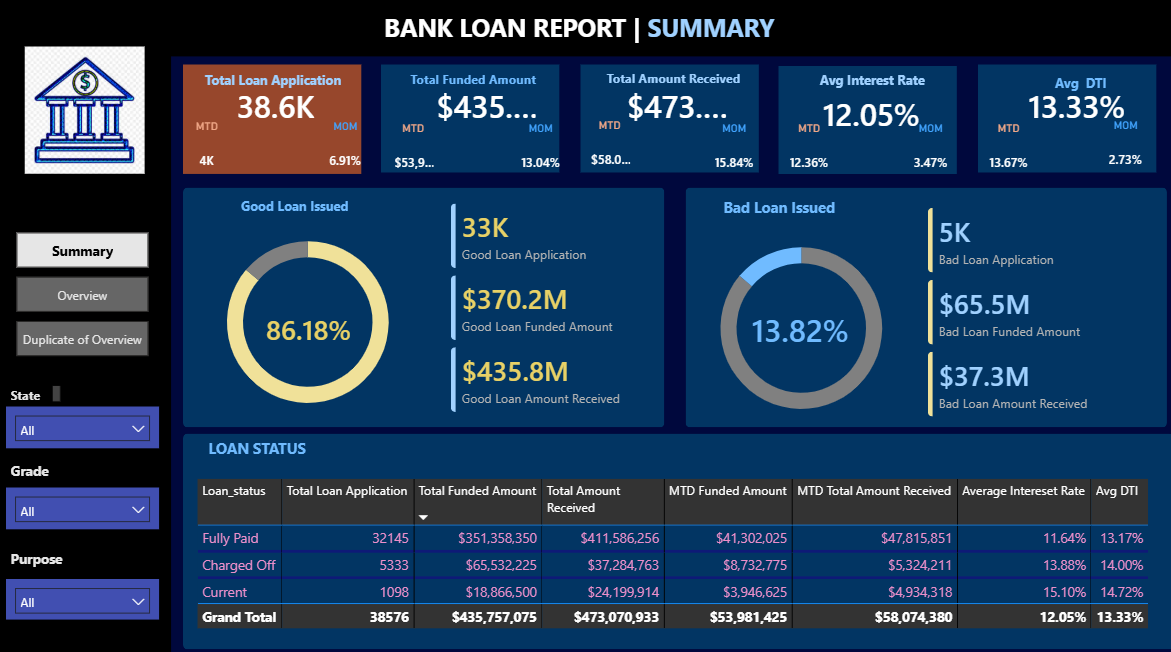

The page's visual inventory and layout, read from the dashboard file:
{"tool":"powerbi","page":{"name":"Summary","canvas":[1280,720],"ordinal":0},"visuals":[{"type":"shape","box":[204.9,73.2,193.6,118.7],"z":0},{"type":"shape","box":[0,0,1279.4,54.8],"z":1000},{"type":"shape","box":[0.6,10,1279.4,54.8],"z":2000},{"type":"cardVisual","fields":{"Data":["Financial_Loan_Project.Total Loan Application"]},"box":[215.4,79.4,181.4,75.6],"z":3000},{"type":"shape","box":[0,54.8,192,665.2],"z":4000},{"type":"textbox","box":[417.6,9.4,447.9,54.8],"z":5000},{"type":"textbox","box":[207.9,75.6,189,41.6],"z":6000},{"type":"cardVisual","title":"MTD","fields":{"Data":["Financial_Loan_Project.MTD Loan Application"]},"box":[193.6,133.4,74.8,71.6],"z":7000},{"type":"cardVisual","title":"MOM","fields":{"Data":["Financial_Loan_Project.MOM Loan Application"]},"box":[319.4,134.2,124.7,71.8],"z":8000},{"type":"shape","box":[420.5,73.2,193.6,117.1],"z":9000},{"type":"textbox","box":[422.9,74.8,193.6,35.8],"z":10000},{"type":"cardVisual","fields":{"Data":["Financial_Loan_Project.Total Funded Amount"]},"box":[444,79.7,172.4,74.8],"z":11000},{"type":"cardVisual","title":"MTD","fields":{"Data":["Financial_Loan_Project.MTD Funded Amount"]},"box":[403.4,135,102.5,71.6],"z":12000},{"type":"cardVisual","title":"MOM","fields":{"Data":["Financial_Loan_Project.MOM Total Funded Amount"]},"box":[530.3,135,125.2,71.6],"z":13000},{"type":"shape","box":[636,73.2,193.6,117.1],"z":14000},{"type":"textbox","box":[640.9,73.2,191.9,30.9],"z":15000},{"type":"cardVisual","fields":{"Data":["Financial_Loan_Project.Total Amount Received"]},"box":[650.6,79.7,172.4,74.8],"z":16000},{"type":"cardVisual","title":"MTD","fields":{"Data":["Financial_Loan_Project.MTD Total Amount Received"]},"box":[616.5,131.8,102.5,71.6],"z":17000},{"type":"cardVisual","title":"MOM","fields":{"Data":["Financial_Loan_Project.MOM Total Amount Received"]},"box":[740.1,135,125.2,71.6],"z":18000},{"type":"shape","box":[851.5,74.8,193.6,117.1],"z":19000},{"type":"textbox","box":[855.6,74.8,193.6,35.8],"z":20000},{"type":"cardVisual","fields":{"Data":["Financial_Loan_Project.Average Intereset Rate"]},"box":[865.3,87.8,172.4,74.8],"z":21000},{"type":"cardVisual","title":"MTD","fields":{"Data":["Financial_Loan_Project.MTD Avearge Interest Rate"]},"box":[832.8,135,102.5,71.6],"z":22000},{"type":"cardVisual","title":"MOM","fields":{"Data":["Financial_Loan_Project.MOM Avg Int Rate"]},"box":[953.2,135,125.2,71.6],"z":23000},{"type":"shape","box":[1067,73.2,193.6,117.1],"z":24000},{"type":"textbox","box":[1084.9,78.1,187.1,29.3],"z":25000},{"type":"cardVisual","fields":{"Data":["Financial_Loan_Project.Avg DTI"]},"box":[1088.2,79.7,172.4,74.8],"z":26000},{"type":"cardVisual","title":"MTD","fields":{"Data":["Financial_Loan_Project.MTD Avearge DTI"]},"box":[1049.1,135,102.5,71.6],"z":27000},{"type":"cardVisual","title":"MOM","fields":{"Data":["Financial_Loan_Project.MOM AvG DTI"]},"box":[1174.4,131.8,105.7,71.6],"z":28000},{"type":"shape","box":[204.9,206.6,522.1,260.2],"z":29000},{"type":"shape","box":[749.8,206.6,522.1,260.2],"z":30000},{"type":"donutChart","fields":{"Category":["Financial_Loan_Project.Good VS Bad Loan"],"Y":["Financial_Loan_Project.Total Loan Application"]},"box":[214.7,237.5,250.5,229.3],"z":31000},{"type":"cardVisual","fields":{"Data":["Financial_Loan_Project.Good Loan %"]},"box":[265.1,322.1,152.9,74.8],"z":32000},{"type":"textbox","box":[232.6,211.5,187.1,50.4],"z":33000},{"type":"cardVisual","fields":{"Data":["Financial_Loan_Project.Good Loan Application","Financial_Loan_Project.Good Loan Funded Amount","Financial_Loan_Project.Good Loan Amount Received"]},"box":[478.2,206.6,276.5,261.9],"z":34000},{"type":"shape","box":[204.9,473.3,1075.1,234.2],"z":35000},{"type":"donutChart","fields":{"Category":["Financial_Loan_Project.Good VS Bad Loan"],"Y":["Financial_Loan_Project.Total Loan Application"]},"box":[749.8,244,250.5,229.3],"z":36000},{"type":"textbox","box":[777.5,211.5,148,42.3],"z":37000},{"type":"cardVisual","fields":{"Data":["Financial_Loan_Project.Bad Loan %"]},"box":[787.2,322.1,174,74.8],"z":38000},{"type":"cardVisual","fields":{"Data":["Financial_Loan_Project.Bad Loan Application","Financial_Loan_Project.Bad Loan Funded Amount","Financial_Loan_Project.Bad Loan Amount Received"]},"box":[995.4,211.5,276.5,261.9],"z":39000},{"type":"tableEx","fields":{"Values":["Financial_Loan_Project.loan_status","Financial_Loan_Project.Total Loan Application","Financial_Loan_Project.Total Funded Amount","Financial_Loan_Project.Total Amount Received","Financial_Loan_Project.MTD Funded Amount","Financial_Loan_Project.MTD Total Amount Received","Financial_Loan_Project.Average Intereset Rate","Financial_Loan_Project.Avg DTI"]},"box":[214.7,517.2,1065.4,203.3],"z":40000},{"type":"textbox","box":[227.7,473.3,169.2,43.9],"z":41000},{"type":"slicer","fields":{"Values":["Financial_Loan_Project.address_state"]},"box":[13,444,165.9,45.5],"z":42000},{"type":"textbox","box":[13,416.4,63.4,27.7],"z":43000},{"type":"slicer","fields":{"Values":["Financial_Loan_Project.grade"]},"box":[13,531.9,165.9,45.5],"z":44000},{"type":"textbox","box":[13,497.7,63.4,37.4],"z":45000},{"type":"slicer","fields":{"Values":["Financial_Loan_Project.purpose"]},"box":[13,631.1,165.9,43.9],"z":46000},{"type":"textbox","box":[13,593.7,83,37.4],"z":47000},{"type":"pageNavigator","box":[24.4,255.4,143.1,135],"z":48000},{"type":"image","box":[0,53.7,196.8,138.3],"z":49000}]}

Visuals, with their boxes in screenshot pixels (x1, y1, x2, y2), scaled from the page's 1280x720 canvas onto the 1171x652 screenshot:
shape: (x1=187, y1=66, x2=365, y2=174)
shape: (x1=0, y1=0, x2=1170, y2=50)
shape: (x1=1, y1=9, x2=1170, y2=59)
cardVisual - Financial_Loan_Project.Total Loan Application: (x1=197, y1=72, x2=363, y2=140)
shape: (x1=0, y1=50, x2=176, y2=651)
textbox: (x1=382, y1=9, x2=792, y2=58)
textbox: (x1=190, y1=68, x2=363, y2=106)
"MTD" cardVisual: (x1=177, y1=121, x2=246, y2=186)
"MOM" cardVisual: (x1=292, y1=122, x2=406, y2=187)
shape: (x1=385, y1=66, x2=562, y2=172)
textbox: (x1=387, y1=68, x2=564, y2=100)
cardVisual - Financial_Loan_Project.Total Funded Amount: (x1=406, y1=72, x2=564, y2=140)
"MTD" cardVisual: (x1=369, y1=122, x2=463, y2=187)
"MOM" cardVisual: (x1=485, y1=122, x2=600, y2=187)
shape: (x1=582, y1=66, x2=759, y2=172)
textbox: (x1=586, y1=66, x2=762, y2=94)
cardVisual - Financial_Loan_Project.Total Amount Received: (x1=595, y1=72, x2=753, y2=140)
"MTD" cardVisual: (x1=564, y1=119, x2=658, y2=184)
"MOM" cardVisual: (x1=677, y1=122, x2=792, y2=187)
shape: (x1=779, y1=68, x2=956, y2=174)
textbox: (x1=783, y1=68, x2=960, y2=100)
cardVisual - Financial_Loan_Project.Average Intereset Rate: (x1=792, y1=80, x2=949, y2=147)
"MTD" cardVisual: (x1=762, y1=122, x2=856, y2=187)
"MOM" cardVisual: (x1=872, y1=122, x2=987, y2=187)
shape: (x1=976, y1=66, x2=1153, y2=172)
textbox: (x1=993, y1=71, x2=1164, y2=97)
cardVisual - Financial_Loan_Project.Avg DTI: (x1=996, y1=72, x2=1153, y2=140)
"MTD" cardVisual: (x1=960, y1=122, x2=1054, y2=187)
"MOM" cardVisual: (x1=1074, y1=119, x2=1170, y2=184)
shape: (x1=187, y1=187, x2=665, y2=423)
shape: (x1=686, y1=187, x2=1164, y2=423)
donutChart - Financial_Loan_Project.Good VS Bad Loan x Financial_Loan_Project.Total Loan Application: (x1=196, y1=215, x2=426, y2=423)
cardVisual - Financial_Loan_Project.Good Loan %: (x1=243, y1=292, x2=382, y2=359)
textbox: (x1=213, y1=192, x2=384, y2=237)
cardVisual - Financial_Loan_Project.Good Loan Application x Financial_Loan_Project.Good Loan Funded Amount: (x1=437, y1=187, x2=690, y2=424)
shape: (x1=187, y1=429, x2=1170, y2=641)
donutChart - Financial_Loan_Project.Good VS Bad Loan x Financial_Loan_Project.Total Loan Application: (x1=686, y1=221, x2=915, y2=429)
textbox: (x1=711, y1=192, x2=847, y2=230)
cardVisual - Financial_Loan_Project.Bad Loan %: (x1=720, y1=292, x2=879, y2=359)
cardVisual - Financial_Loan_Project.Bad Loan Application x Financial_Loan_Project.Bad Loan Funded Amount: (x1=911, y1=192, x2=1164, y2=429)
tableEx - Financial_Loan_Project.loan_status x Financial_Loan_Project.Total Loan Application: (x1=196, y1=468, x2=1170, y2=651)
textbox: (x1=208, y1=429, x2=363, y2=468)
slicer - Financial_Loan_Project.address_state: (x1=12, y1=402, x2=164, y2=443)
textbox: (x1=12, y1=377, x2=70, y2=402)
slicer - Financial_Loan_Project.grade: (x1=12, y1=482, x2=164, y2=523)
textbox: (x1=12, y1=451, x2=70, y2=485)
slicer - Financial_Loan_Project.purpose: (x1=12, y1=571, x2=164, y2=611)
textbox: (x1=12, y1=538, x2=88, y2=571)
pageNavigator: (x1=22, y1=231, x2=153, y2=354)
image: (x1=0, y1=49, x2=180, y2=174)
